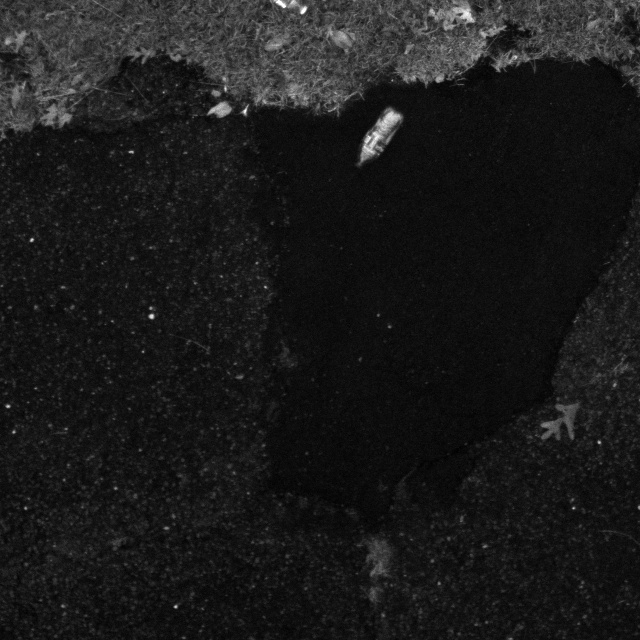bottle: (347, 105, 411, 169)
